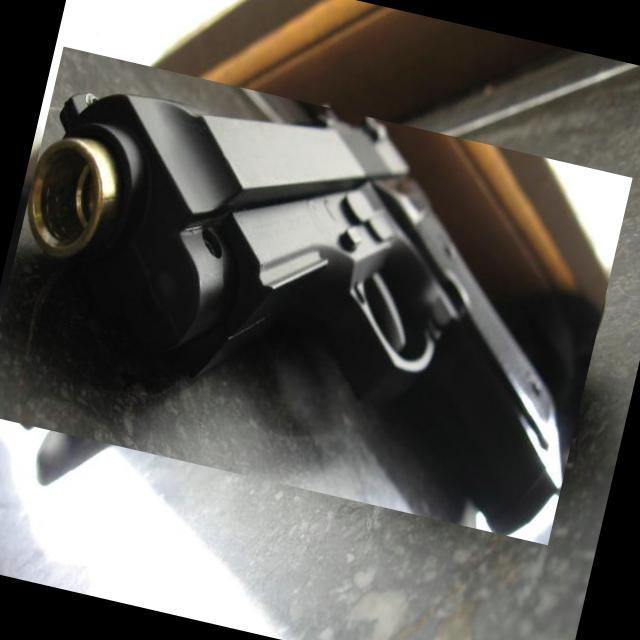Gun: (28, 94, 561, 535)
